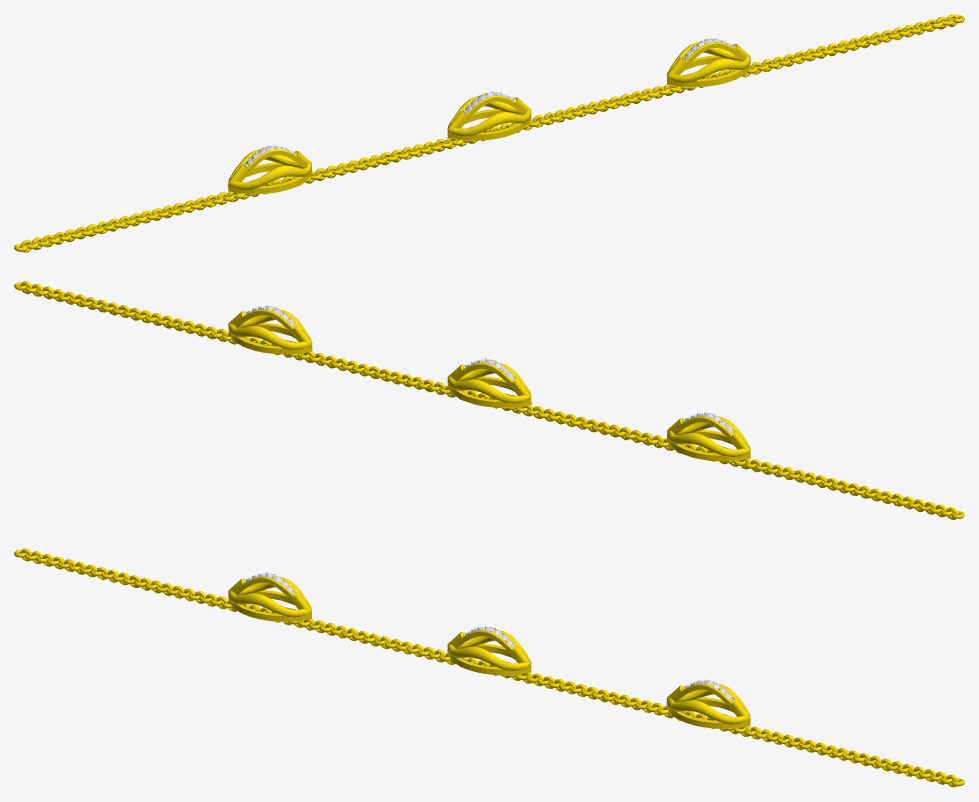
The model's file is DBR-D000688766.glb.
3 views of the same model, one above another, from view 1: azimuth 30°, elevation 25°; view 2: azimuth 150°, elevation 25°; view 3: azimuth 330°, elevation 25° (orthographic).
Visible parts, largest first — view 1: highPolyMesh, lowPolyMesh; view 2: highPolyMesh, lowPolyMesh; view 3: highPolyMesh, lowPolyMesh.
Part boxes in pixels (x1,y1,x2,y2): highPolyMesh: [14, 14, 964, 252]; lowPolyMesh: [14, 15, 964, 252]; highPolyMesh: [14, 281, 964, 519]; lowPolyMesh: [14, 281, 964, 519]; highPolyMesh: [14, 548, 964, 787]; lowPolyMesh: [15, 548, 964, 787].
Size of the model in its own units: 0.1591 by 0.00753 by 0.00824.
